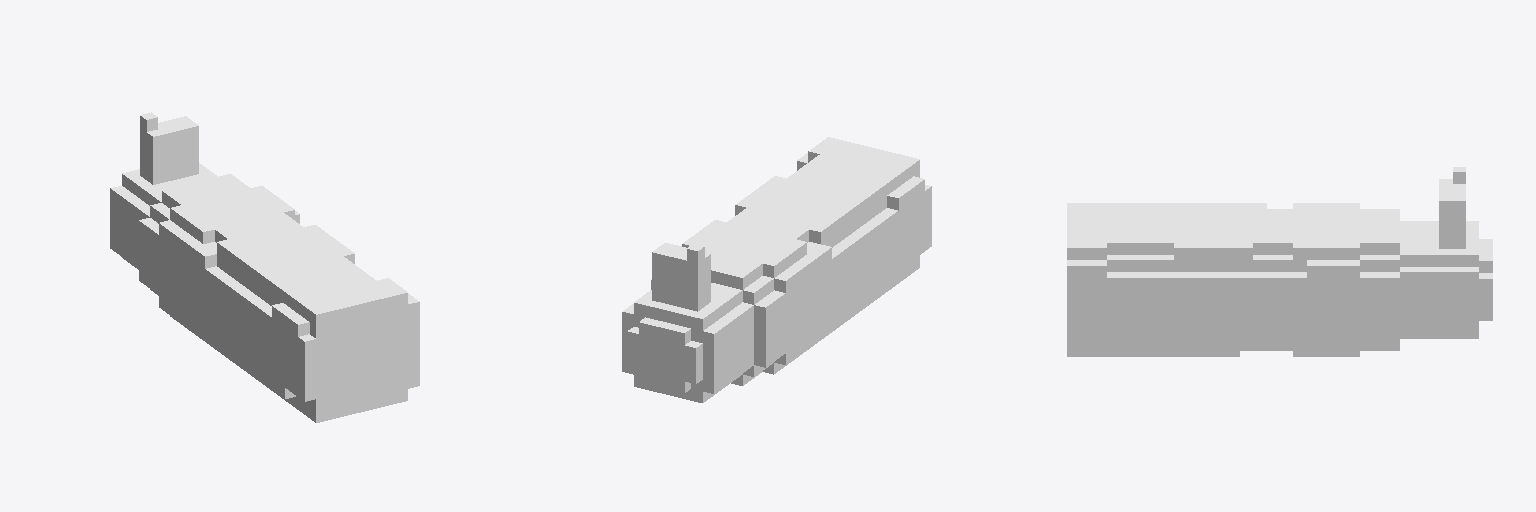
File: GraviHand.obj
3 renders of one model, left to right at view 1: azimuth 30°, elevation 25°; view 2: azimuth 150°, elevation 25°; view 3: azimuth 270°, elevation 25°, orthographic.
Visible parts, largest first — view 1: object 1; view 2: object 1; view 3: object 1.
Part boxes in pixels (bbox=[...]): object 1: bbox=[110, 112, 419, 422]; object 1: bbox=[622, 137, 931, 402]; object 1: bbox=[1067, 167, 1492, 356].
Bounding box in the file's own units: 1 × 1.3 × 3.2.